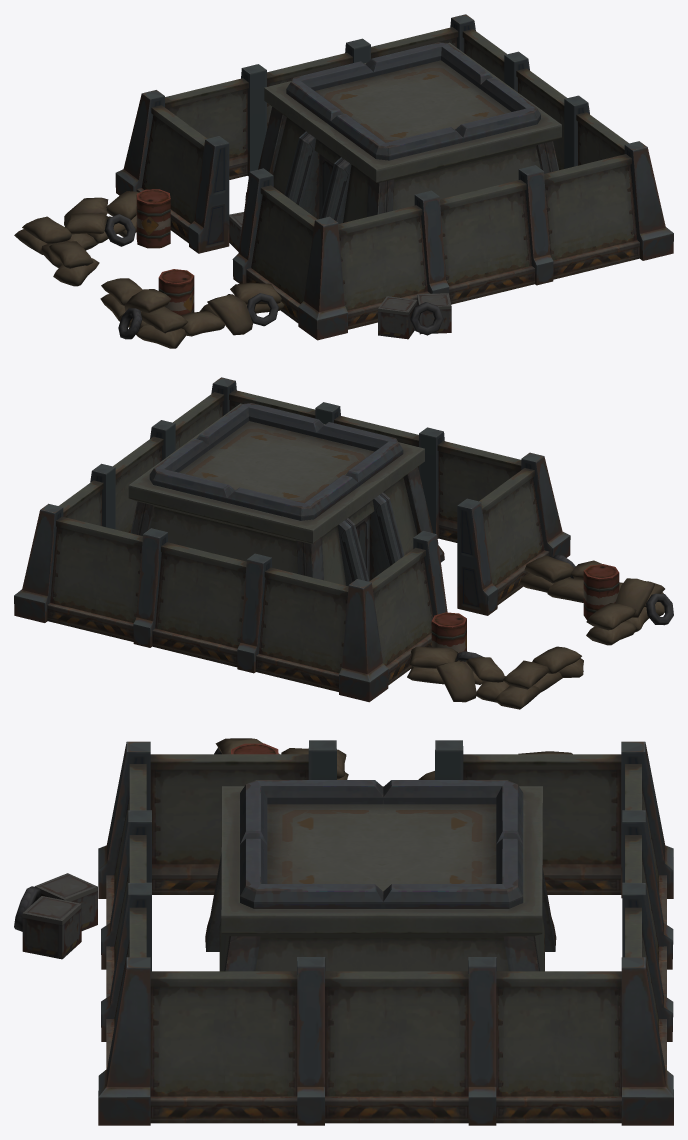
File: WMVault1.FBX
3 renders of one model, top to bottom at view 1: azimuth 30°, elevation 25°; view 2: azimuth 150°, elevation 25°; view 3: azimuth 270°, elevation 25°, orthographic. The views are drawn at different scales.
Visible parts, largest first — view 1: jidi; view 2: jidi; view 3: jidi.
Part boxes in pixels (x1,y1,x2,y2): jidi: (14,14,673,348); jidi: (14,377,673,709); jidi: (14,738,673,1125).
Bounding box in the file's own units: 2.41 × 0.5799 × 1.91.
Materials: 1 (1 with a texture image).
